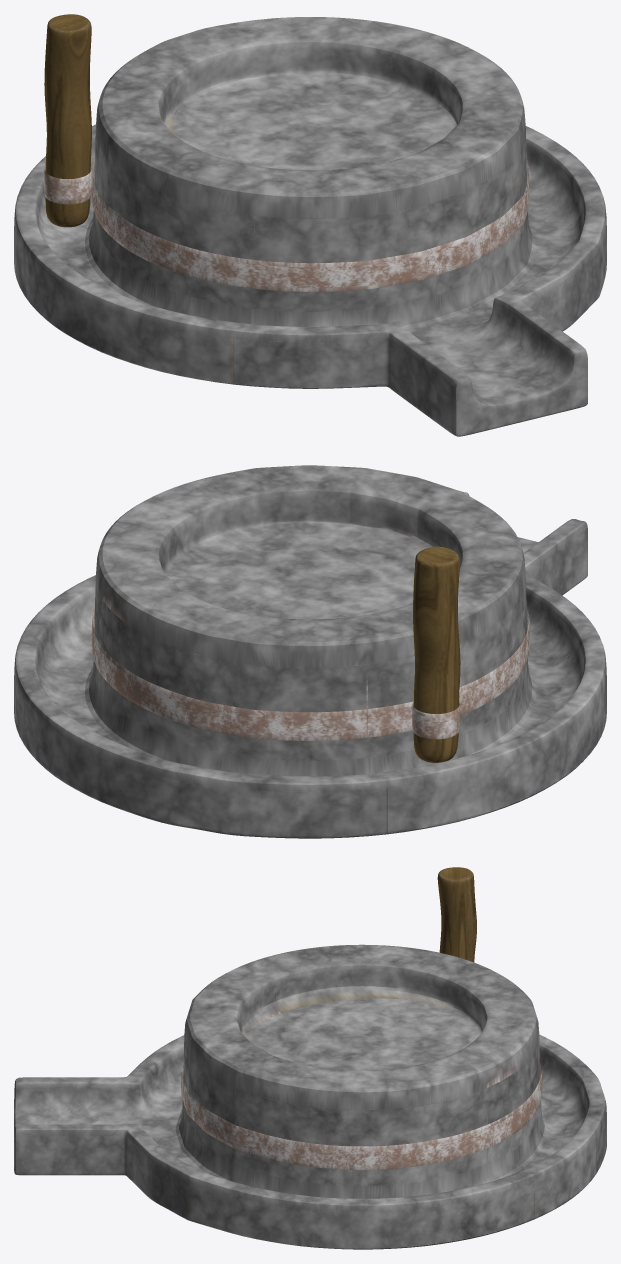
The model's file is GilinganBato.fbx.
3 views of the same model, one above another, from view 1: azimuth 30°, elevation 25°; view 2: azimuth 150°, elevation 25°; view 3: azimuth 270°, elevation 25° (orthographic). The views are drawn at different scales.
Parts seen in each view (by area): view 1: Cylinder.001; view 2: Cylinder.001; view 3: Cylinder.001.
Boxes of the visible parts, box(x1,y1,x2,y2) form: Cylinder.001: box(14, 14, 606, 436); Cylinder.001: box(14, 465, 606, 838); Cylinder.001: box(14, 867, 606, 1249).
Bounding box in the file's own units: 198 × 91.31 × 242.
Materials: 1 (1 with a texture image).
